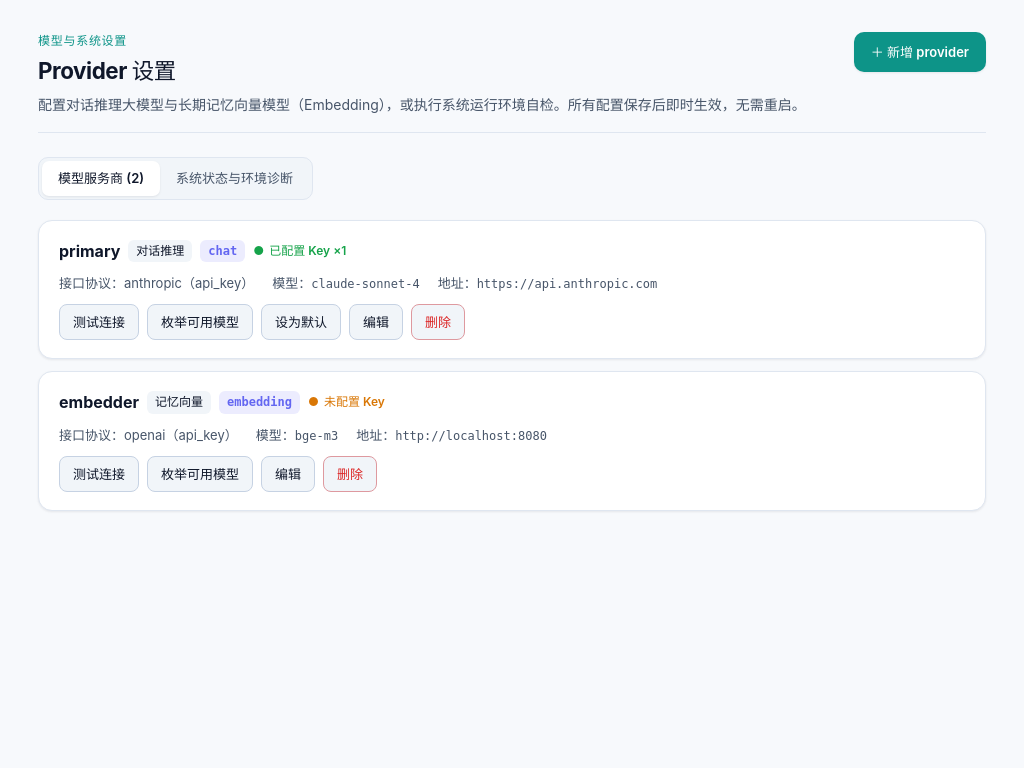
Scenario: SettingsPage › marks the fallback model list as offline
The width and height of the screenshot is (1024, 768).
Click the button "枚举可用模型" below "openai". click: (200, 474)
box: x1=147 y1=456 x2=253 y2=492
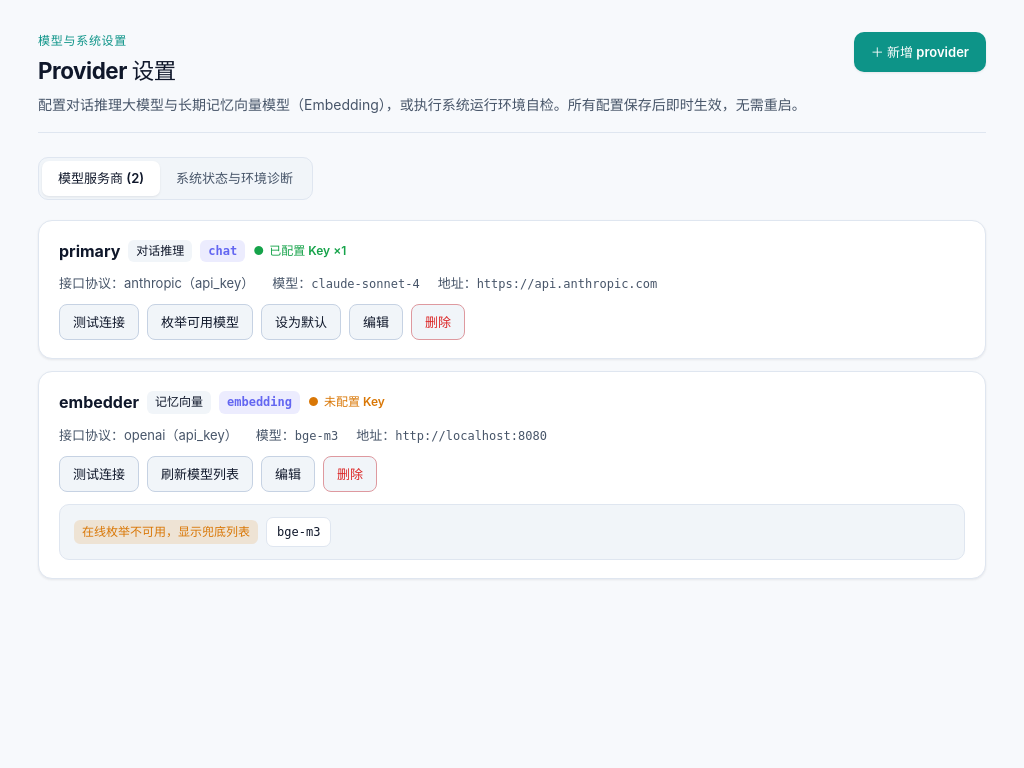
Now the text "在线枚举不可用，显示兜底列表" is shown, box x1=74 y1=520 x2=258 y2=544
